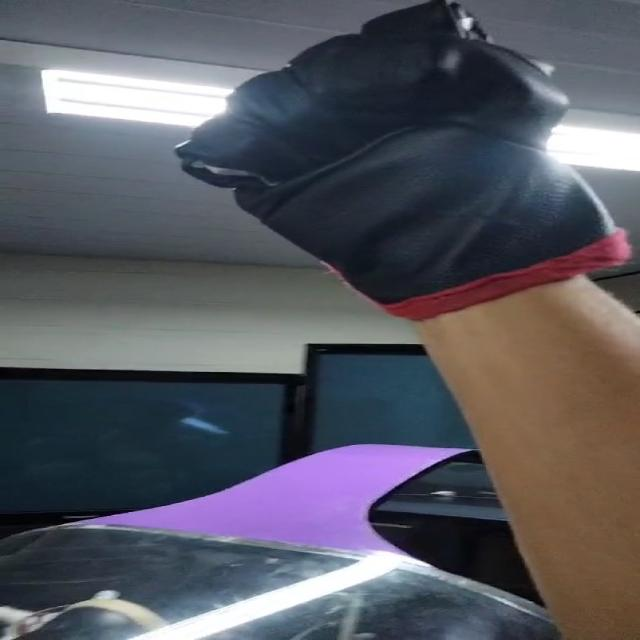Gloves: (176, 0, 640, 315)
